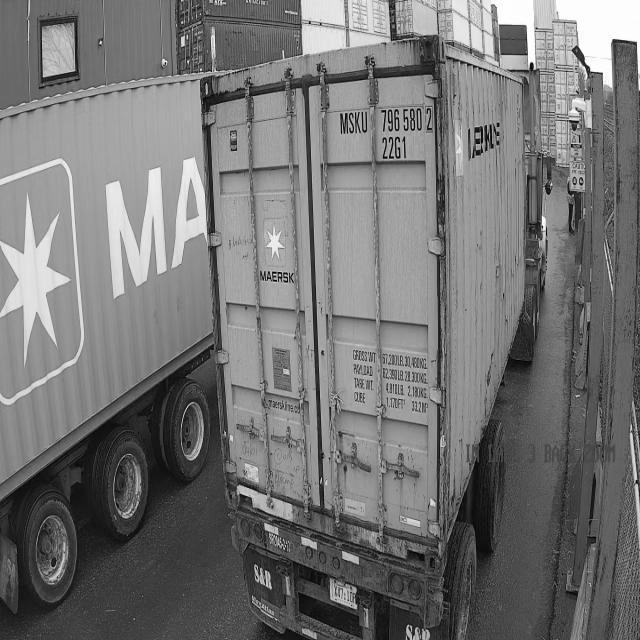container_company_logo: (258, 218, 292, 291)
container_number: (338, 108, 435, 164)
license_plate: (326, 580, 361, 610)
other_container_info: (350, 342, 428, 417)
truck_with_container: (202, 36, 552, 639), (0, 76, 213, 610)
